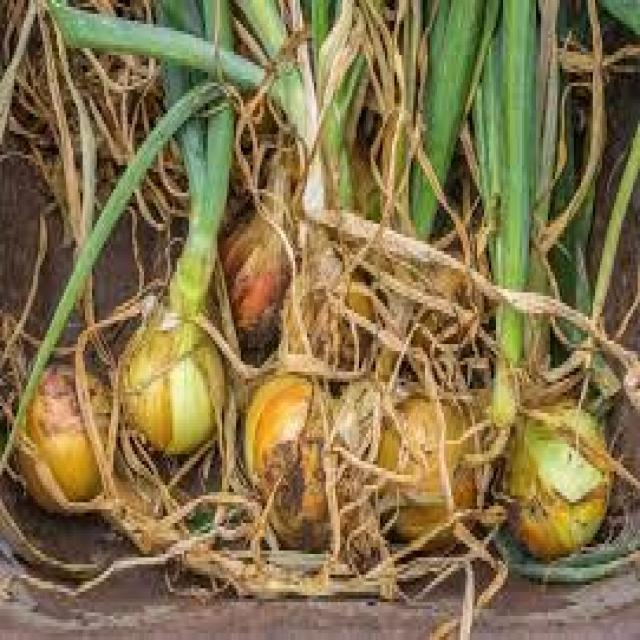Onion: (9, 0, 640, 637), (244, 370, 356, 553), (373, 392, 486, 551), (500, 400, 611, 557), (117, 305, 226, 454), (15, 365, 114, 510), (221, 215, 293, 354)
